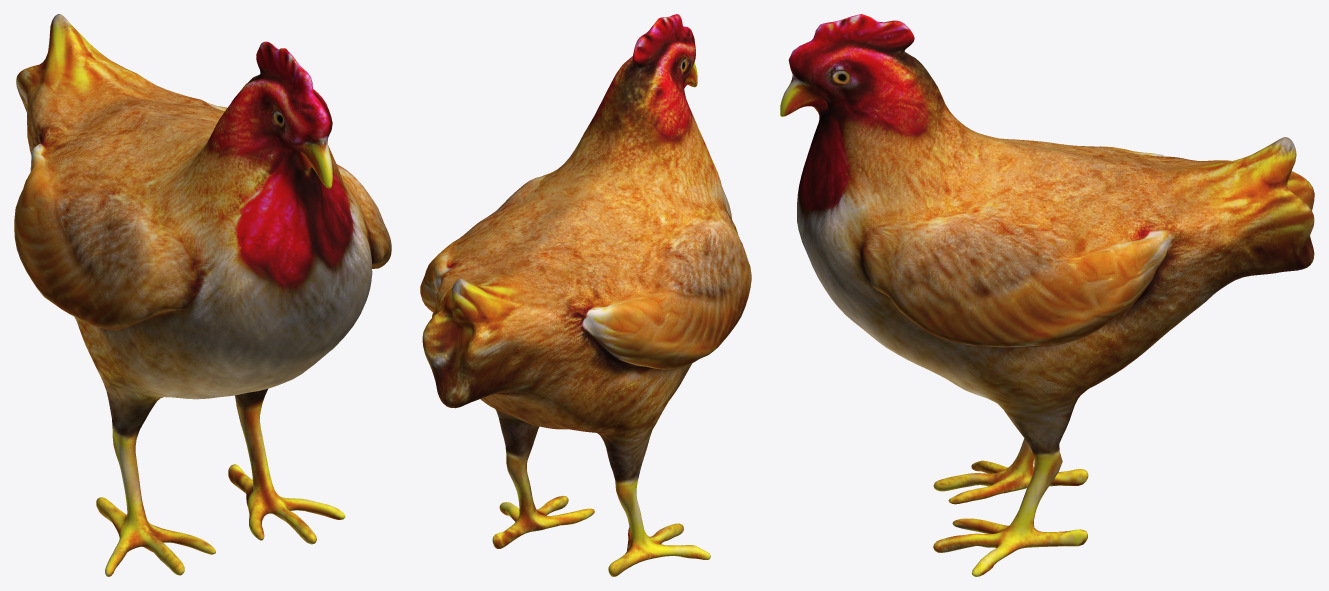
The model's file is uploads_files_5014717_Chicken_Quad.fbx.
3 renders of one model, left to right at view 1: azimuth 30°, elevation 25°; view 2: azimuth 150°, elevation 25°; view 3: azimuth 270°, elevation 25°, orthographic. The views are drawn at different scales.
Parts seen in each view (by area): view 1: Chicken_Quad; view 2: Chicken_Quad; view 3: Chicken_Quad.
Boxes of the visible parts, x1,y1,x2,y2 form: Chicken_Quad: [14, 14, 391, 576]; Chicken_Quad: [420, 14, 751, 576]; Chicken_Quad: [780, 14, 1314, 576].
Size of the model in its own units: 28.01 by 48.23 by 45.81.
